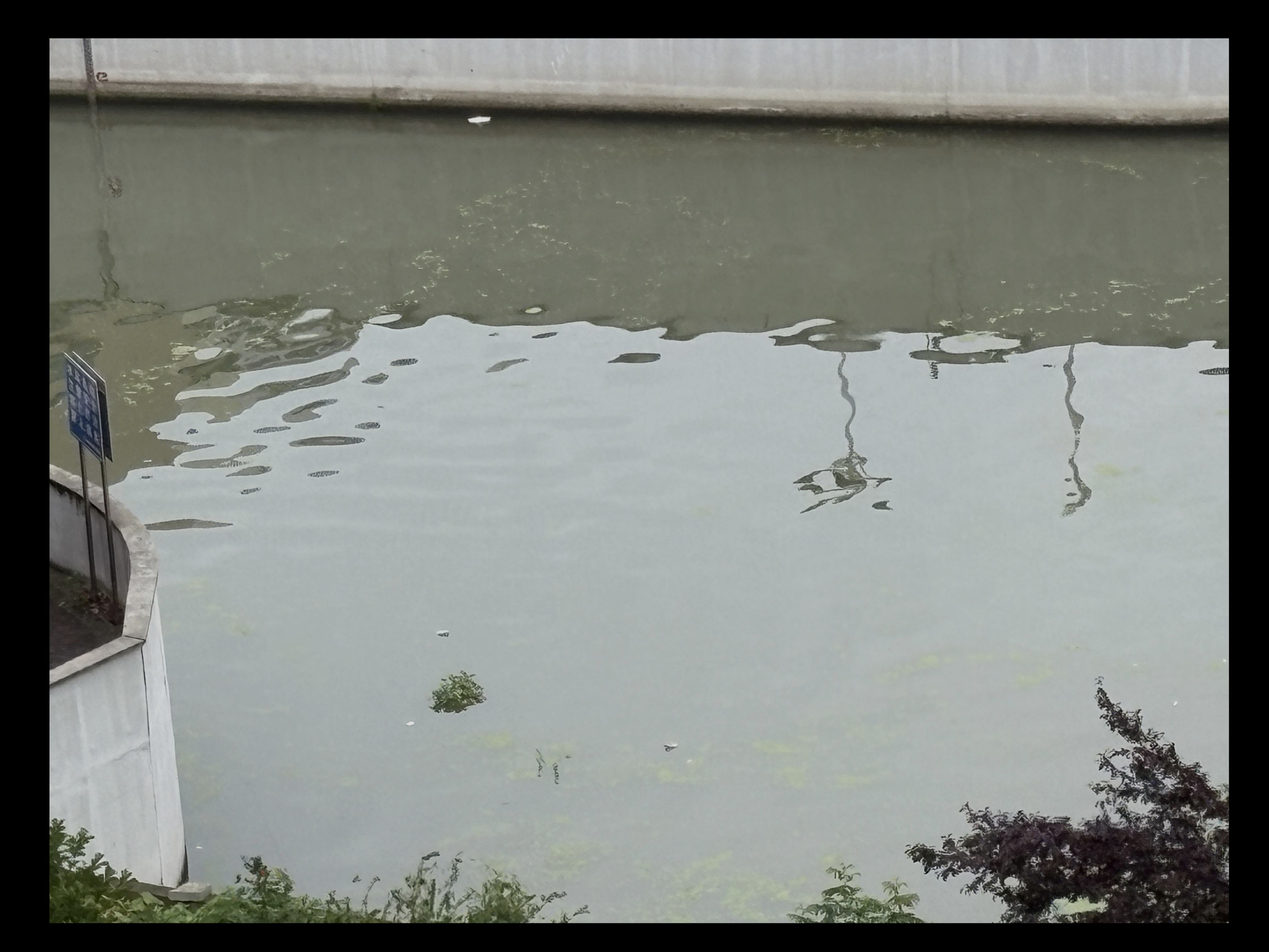Natural wastes: (430, 676, 484, 709)
Plastic wastes: (465, 108, 488, 124)
